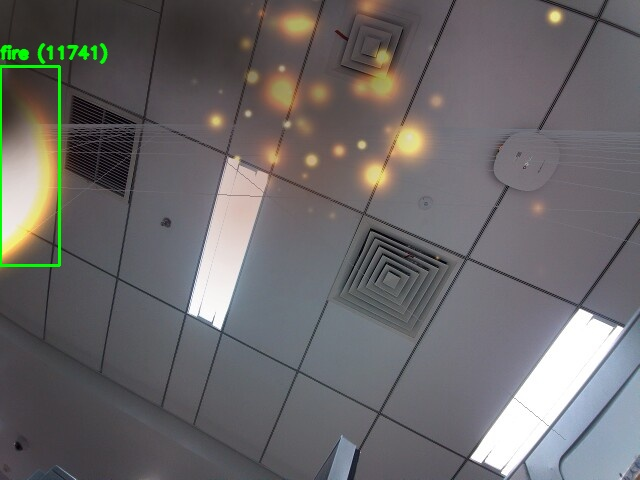fire: (0, 66, 59, 265)
